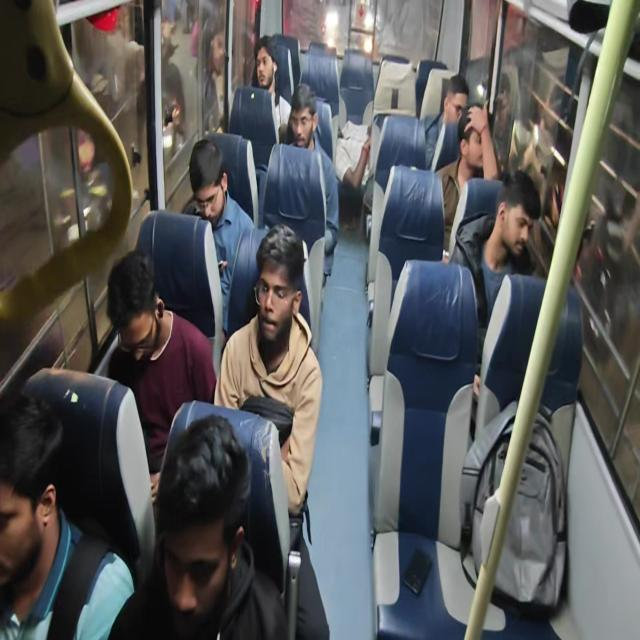person: (164, 406, 275, 626), (0, 375, 89, 613), (255, 236, 333, 418), (84, 256, 171, 398), (333, 96, 390, 218), (489, 165, 534, 282), (167, 143, 230, 225), (454, 102, 502, 176), (290, 81, 324, 172), (252, 45, 285, 106), (446, 81, 469, 130)
